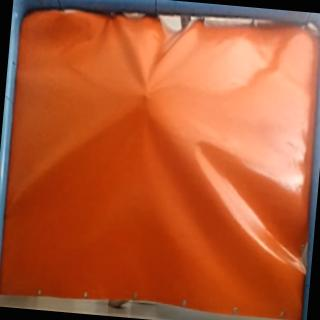Hit-hRxx: (136, 88, 154, 104)
